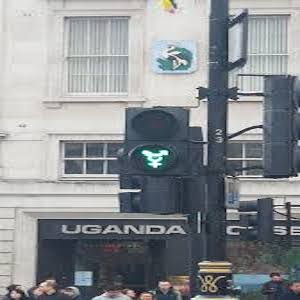green: (139, 146, 169, 169)
